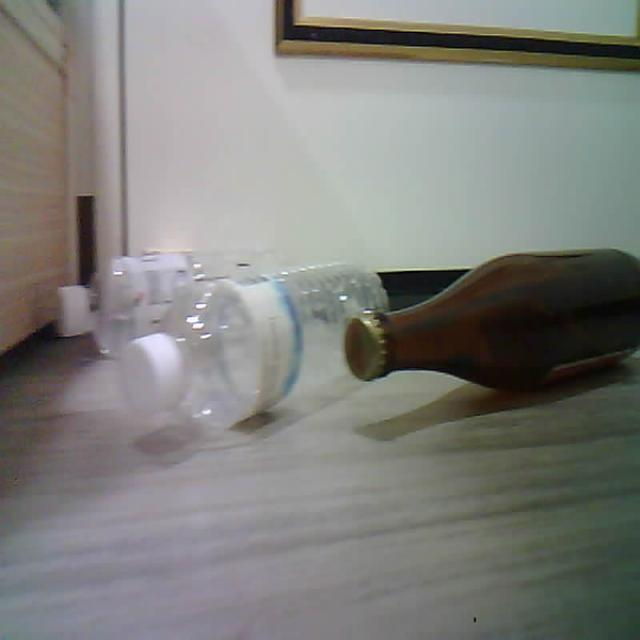bottle: (120, 263, 387, 427), (344, 249, 639, 389)
